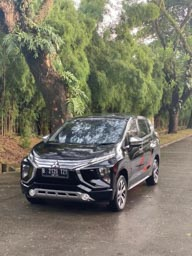plat: (40, 167, 66, 173)
